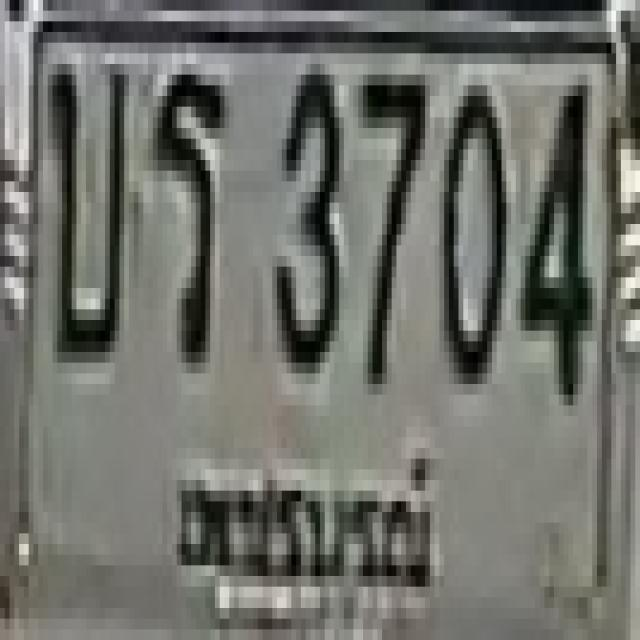0: (434, 75, 502, 373)
3: (270, 64, 337, 363)
4: (516, 74, 587, 394)
7: (358, 59, 421, 378)
A26: (40, 53, 126, 352)
A35: (148, 64, 225, 352)
PNB: (162, 427, 444, 613)
